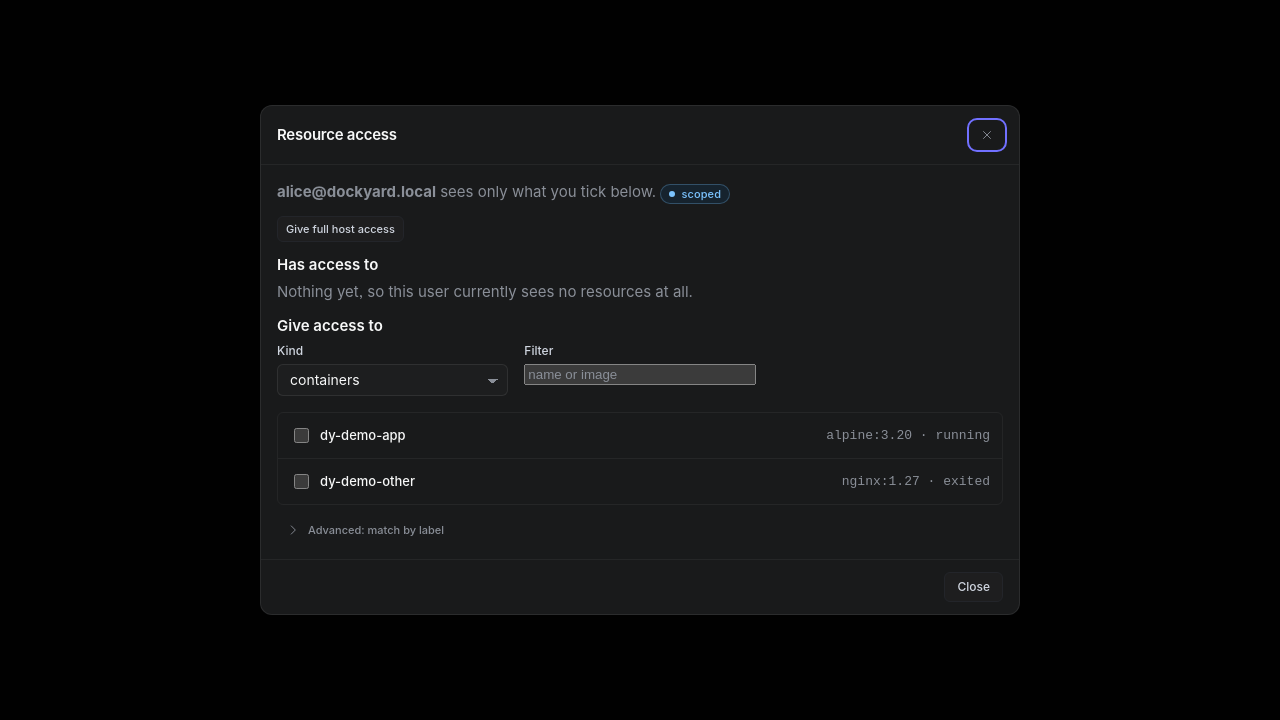
Test case: AllocationDialog › puts the tick back and says so when the grant fails
What coordinates should you click on to do the following:
click the checkbox labelled "dy-demo-app alpine:3.20 · running"
I would click on:
 (302, 435)
Its box is [294,428,309,443].
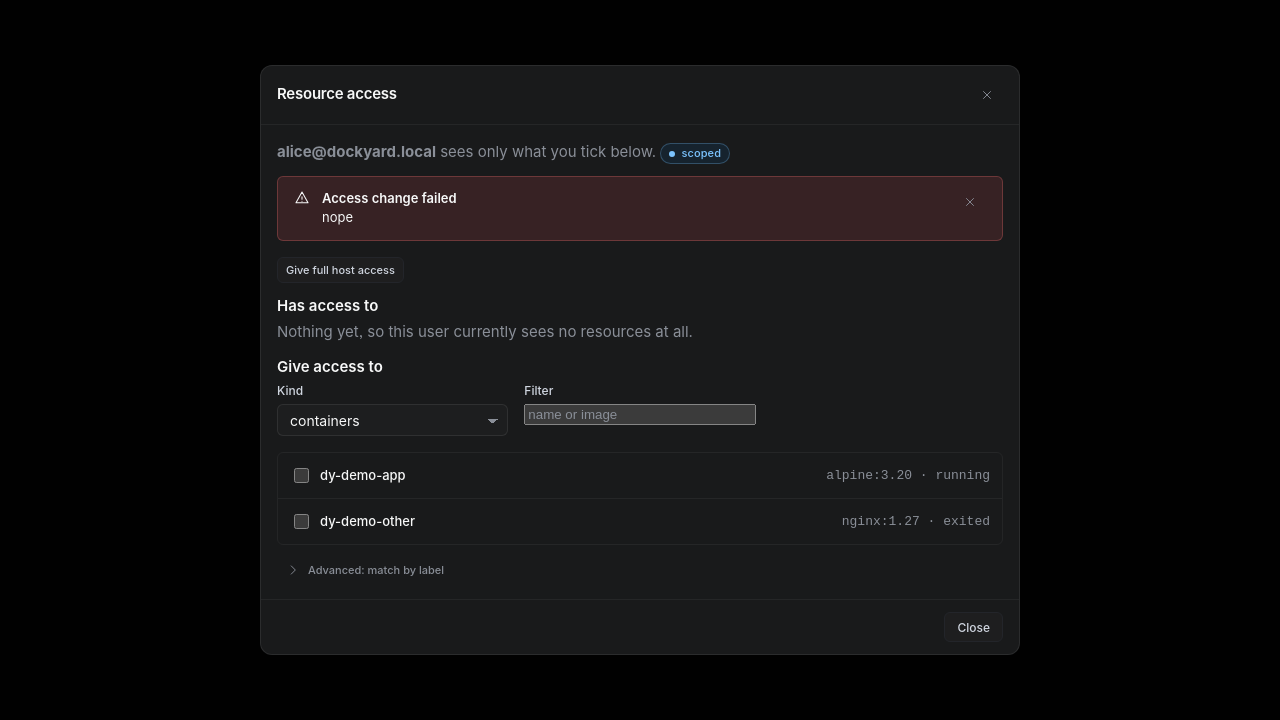
Expected: the checkbox labelled "dy-demo-app alpine:3.20 · running" is not checked, [294,468,309,483]
Expected: the text "Access change failed" is shown, [322,190,457,206]
